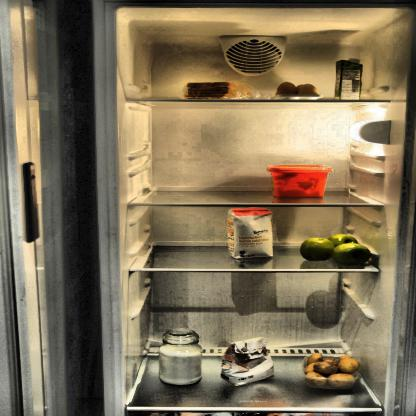apple: (297, 233, 371, 268)
butter: (268, 164, 329, 201)
eggs: (270, 81, 324, 99)
heavy_cream: (334, 56, 364, 102)
potato: (303, 351, 359, 390)
